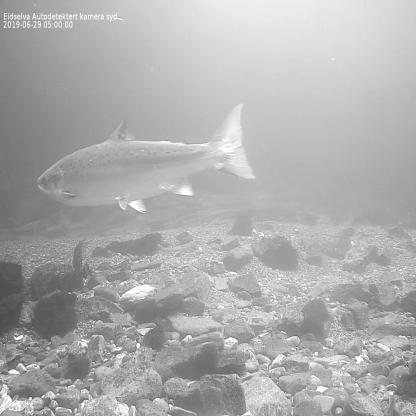salmon: (34, 101, 258, 215)
